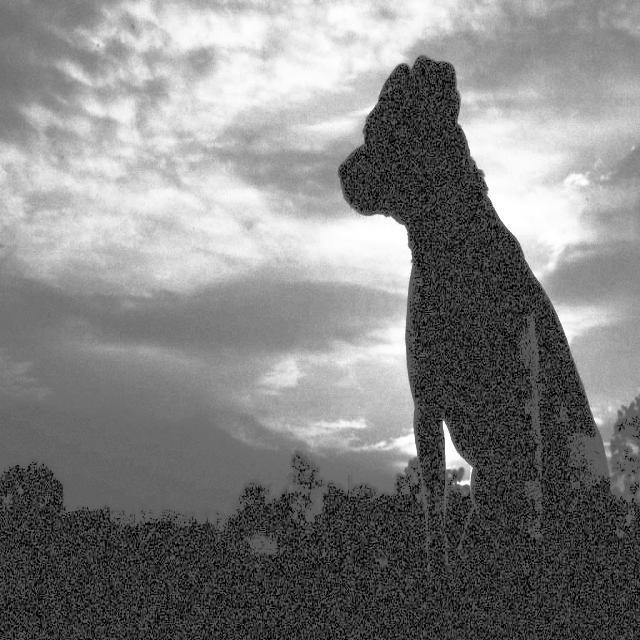Dog: (319, 15, 608, 640)
